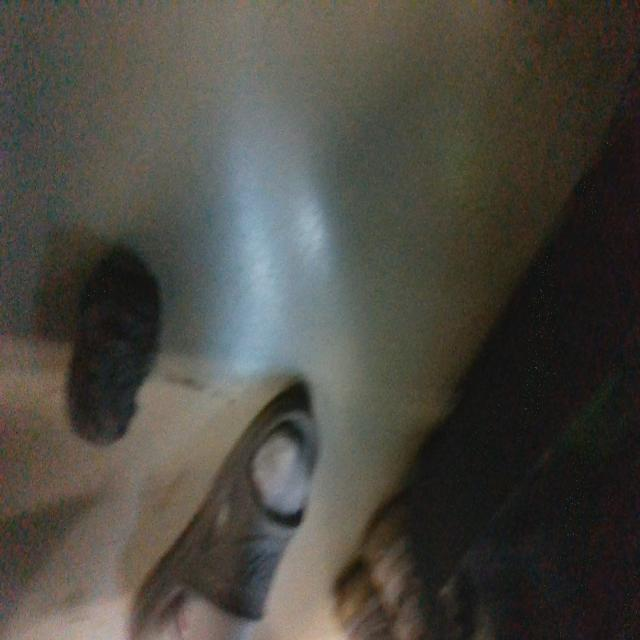stone: (68, 250, 162, 444)
